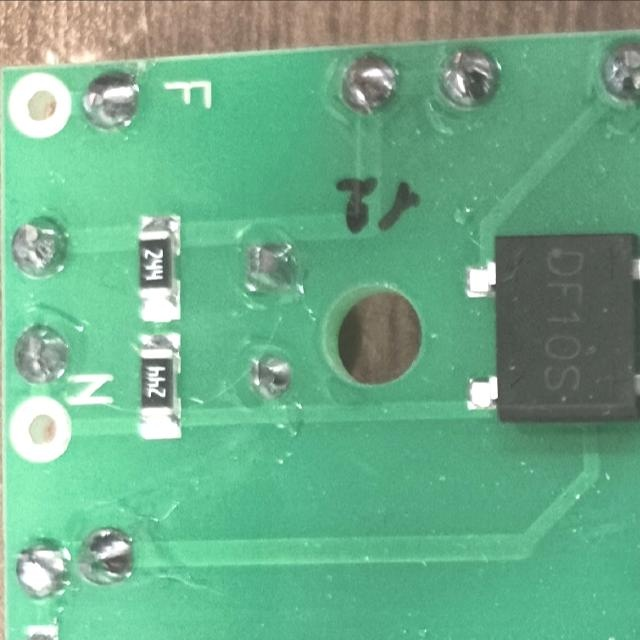chip-resistor: (137, 330, 183, 441), (138, 213, 182, 323)
ic: (459, 232, 640, 426)
